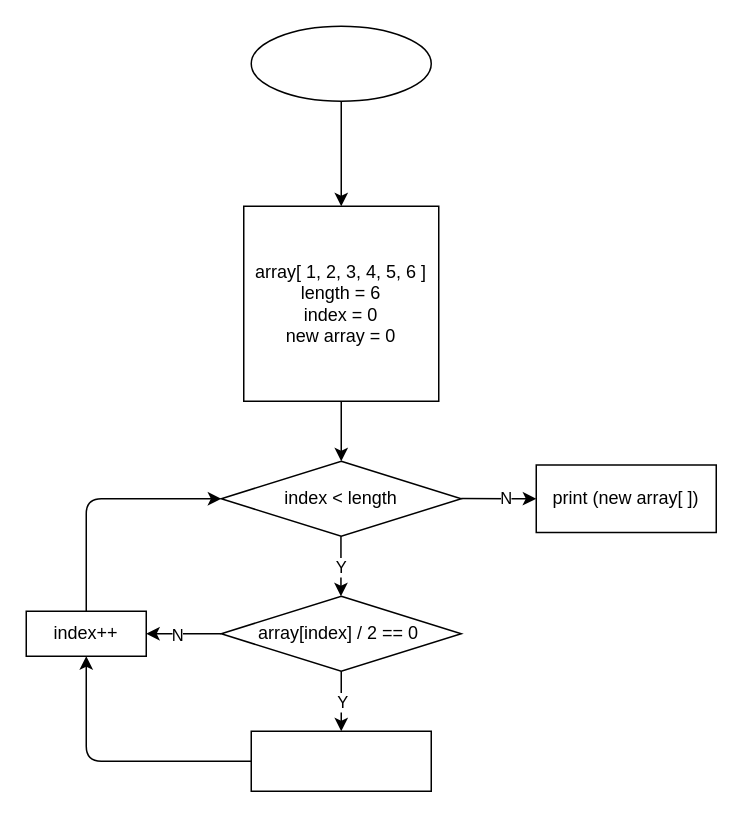
Some shapes in this 743 by 818 pixel diagram are drawn without their labels. The centre of each missing label's shape, as x and y in pixels:
"new array ++" goes at [340,760].
"Start" goes at [340,63].
